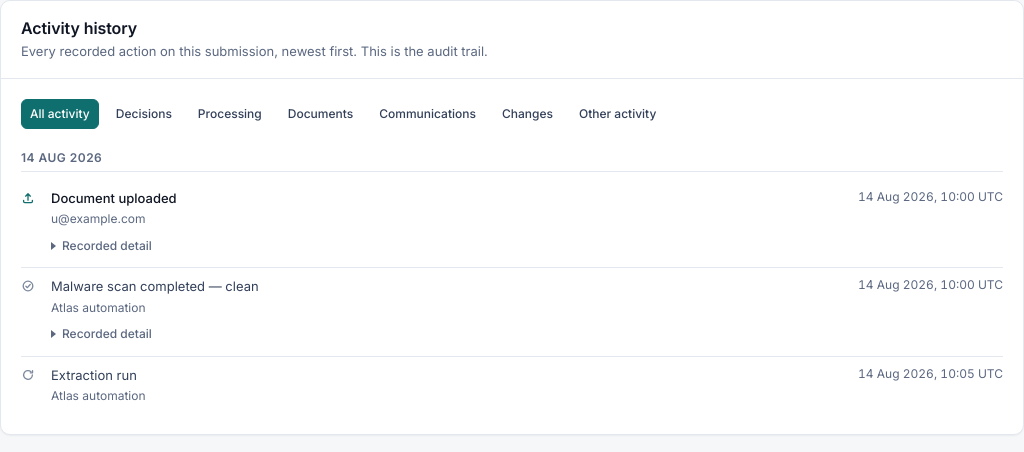
Test: Audit timeline › Documents filter shows both the upload (pending at the time) and the later clean scan
The image size is (1024, 452).
Expected: the text "Malware scan completed — clean" is shown, [51,278,259,294]
Click the button "Documents": (320, 114) [279,98,362,128]
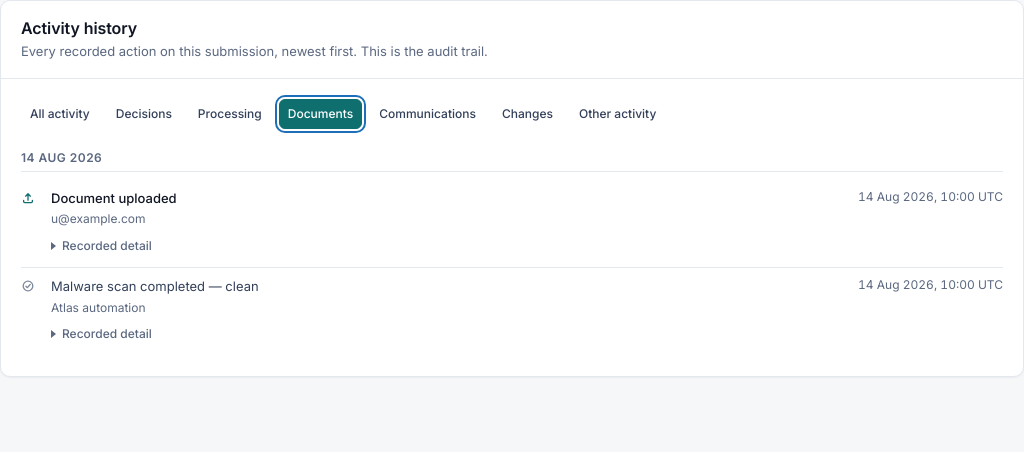
Expected: the text "Document uploaded" is shown, [51,190,177,206]
Result: the text "Extraction run" is gone
